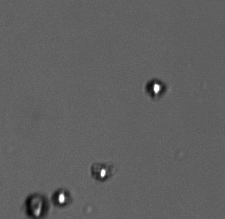Dead Cell: (25, 193, 48, 217)
Living Cell: (146, 78, 167, 99), (52, 188, 70, 207), (93, 163, 113, 180)
